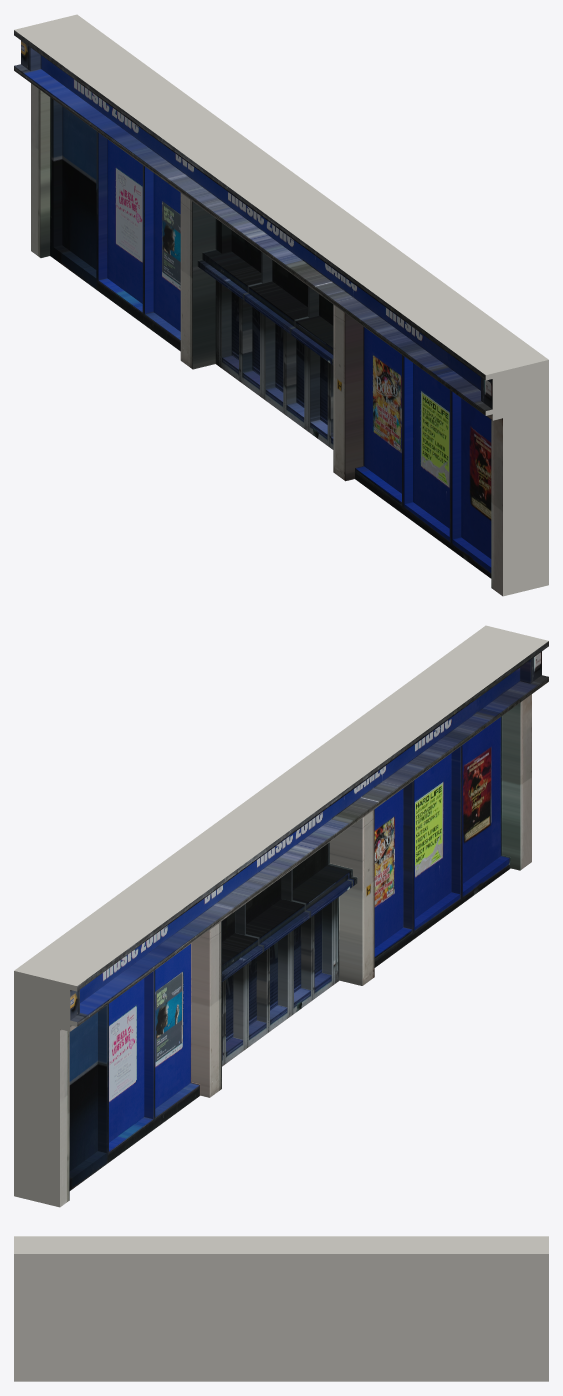
File: bas_facade6.fbx
3 views of the same model, one above another, from view 1: azimuth 30°, elevation 25°; view 2: azimuth 150°, elevation 25°; view 3: azimuth 270°, elevation 25° (orthographic). The views are drawn at different scales.
Parts seen in each view (by area): view 1: bas_facade6.002; view 2: bas_facade6.002; view 3: bas_facade6.002.
Part boxes in pixels (x1,y1,x2,y2): bas_facade6.002: (14, 14, 548, 596); bas_facade6.002: (14, 625, 548, 1207); bas_facade6.002: (14, 1236, 548, 1381).
Size of the model in its own units: 5.2 by 17.71 by 67.17.
2 materials, 2 textured.
